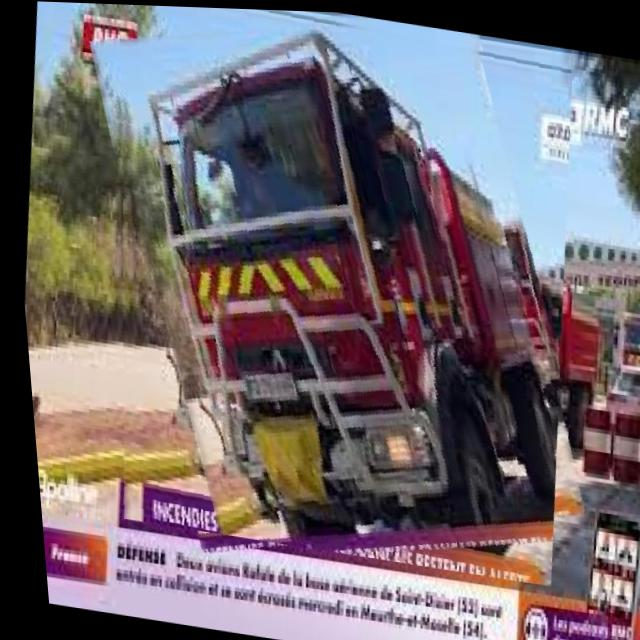Protection Civile: (57, 2, 606, 584), (158, 24, 162, 26)
